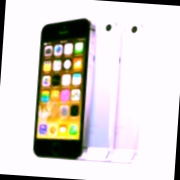iphone: (89, 18, 144, 161)
